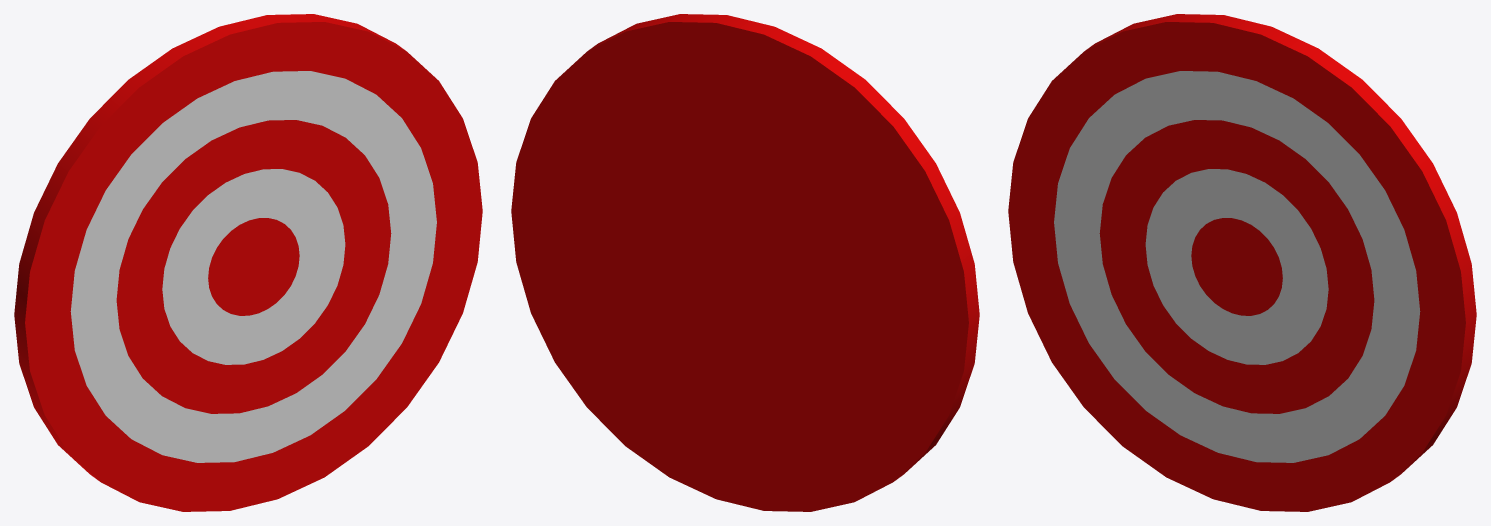
Rendered from Bullseye.fbx.
3 views of the same model, side by side, from view 1: azimuth 30°, elevation 25°; view 2: azimuth 150°, elevation 25°; view 3: azimuth 330°, elevation 25° (orthographic).
Parts seen in each view (by area): view 1: pCylinder1; view 2: pCylinder1; view 3: pCylinder1.
Part boxes in pixels (box(x1,y1,x2,y2)): pCylinder1: box(14, 14, 482, 511); pCylinder1: box(511, 14, 979, 511); pCylinder1: box(1008, 14, 1476, 511).
Size of the model in its own units: 1.44 by 1.43 by 0.0585.
